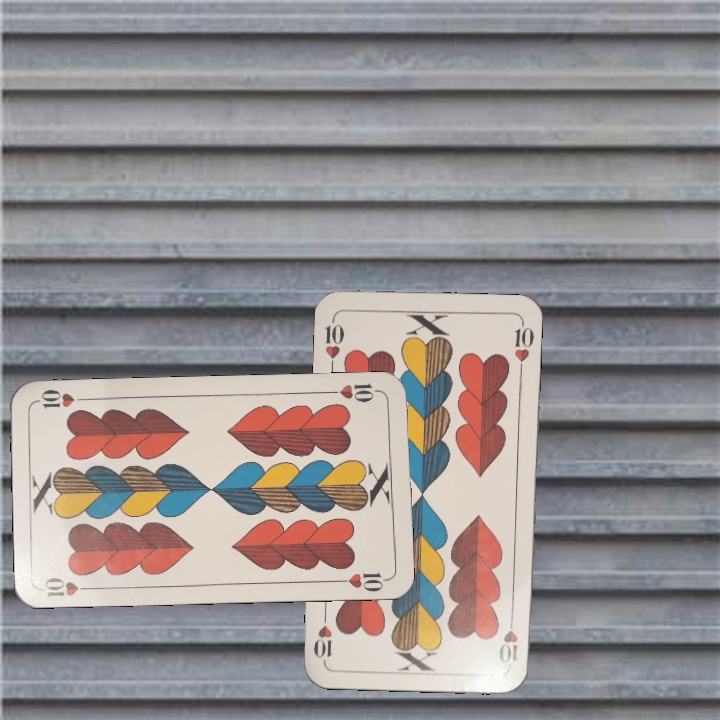H10: (39, 573, 98, 600), (321, 313, 347, 373), (324, 379, 383, 405), (496, 609, 520, 666)
